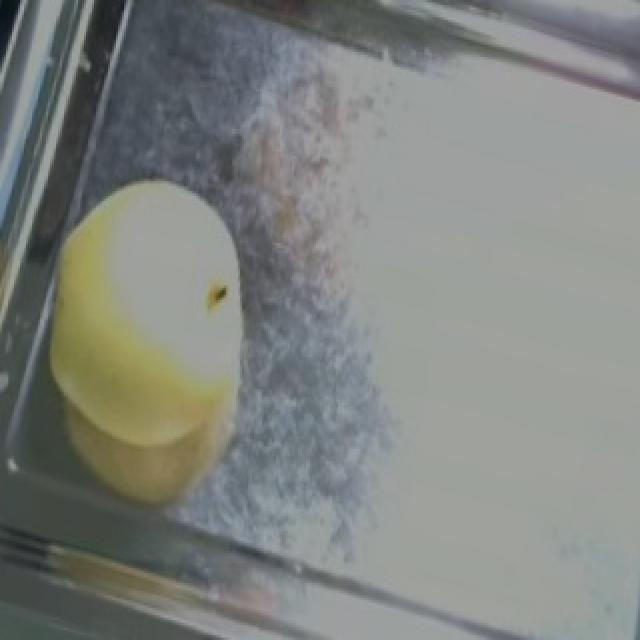Fruit: (8, 233, 286, 541)
